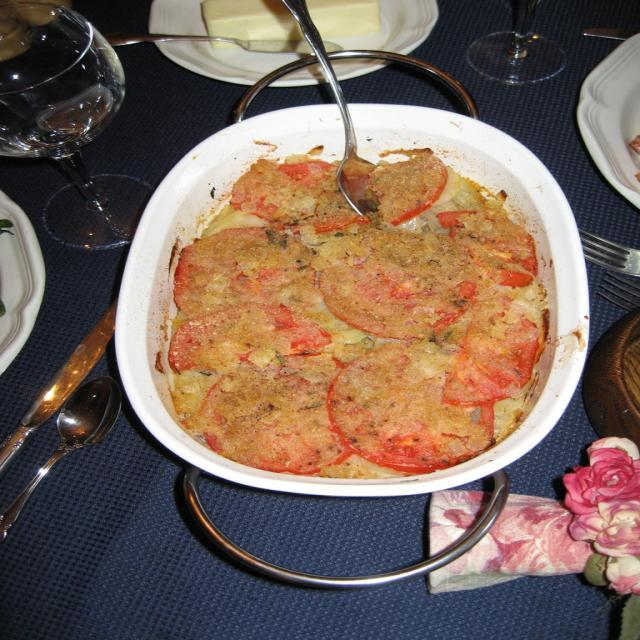ceramic plate: (128, 81, 572, 512)
